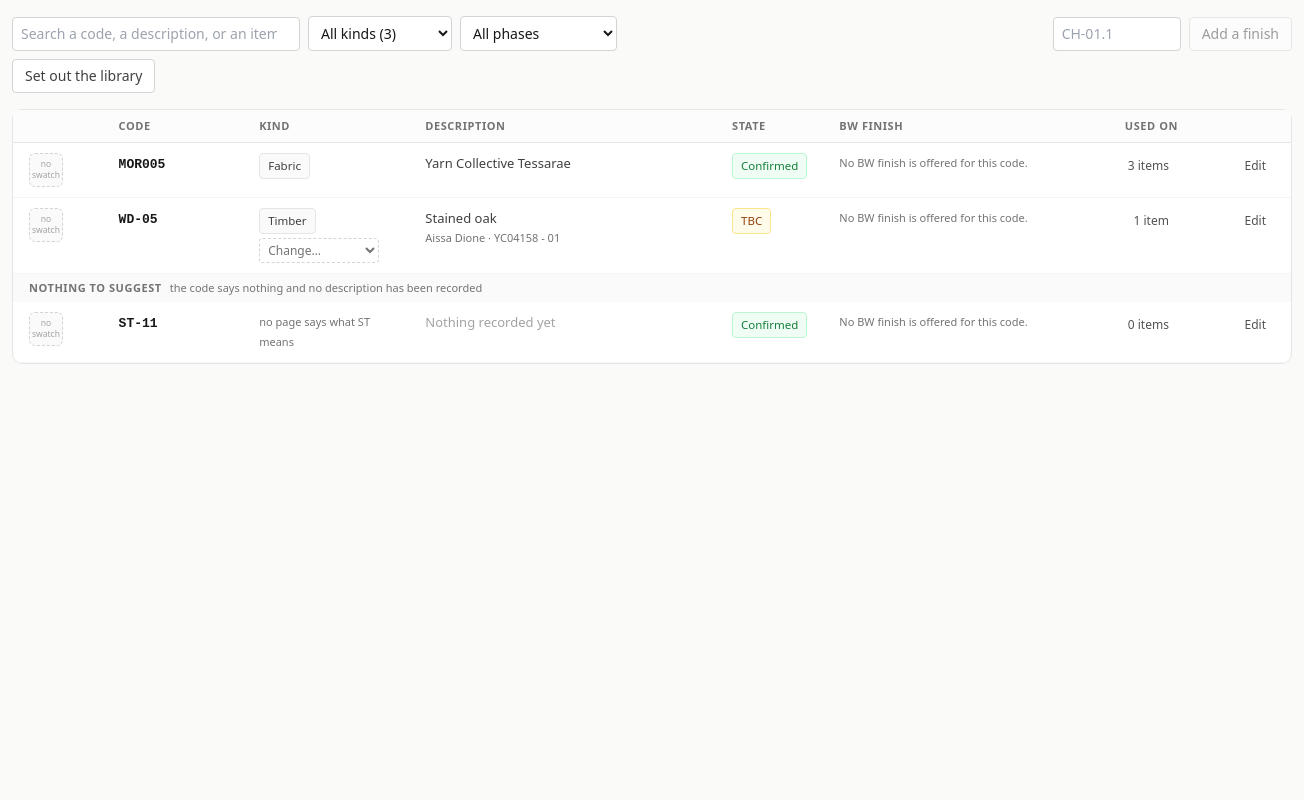
Test: the finishes library › says in words that an edit still reaches the other phases
Expected: the text "MOR005" is shown, top-left (119, 157), bottom-right (165, 172)
Select "MAIN RUN - VE (1)" in the dropdown named "Filter by phase": (538, 34) top-left (460, 16), bottom-right (617, 51)
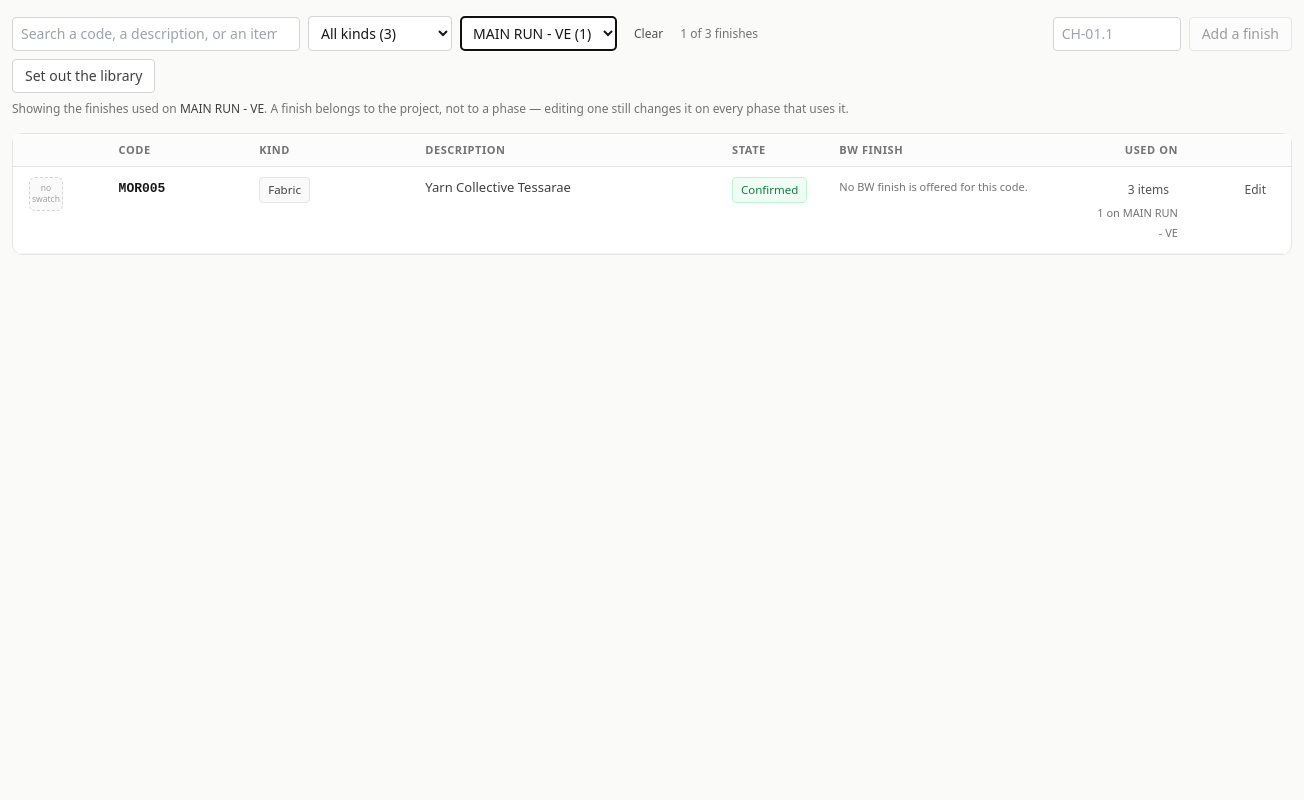
Now the text "editing one still changes it on every phase that uses it" is shown, box top-left (264, 100), bottom-right (849, 117)
Click the button "Edit": click(1255, 190) top-left (1236, 177), bottom-right (1275, 203)
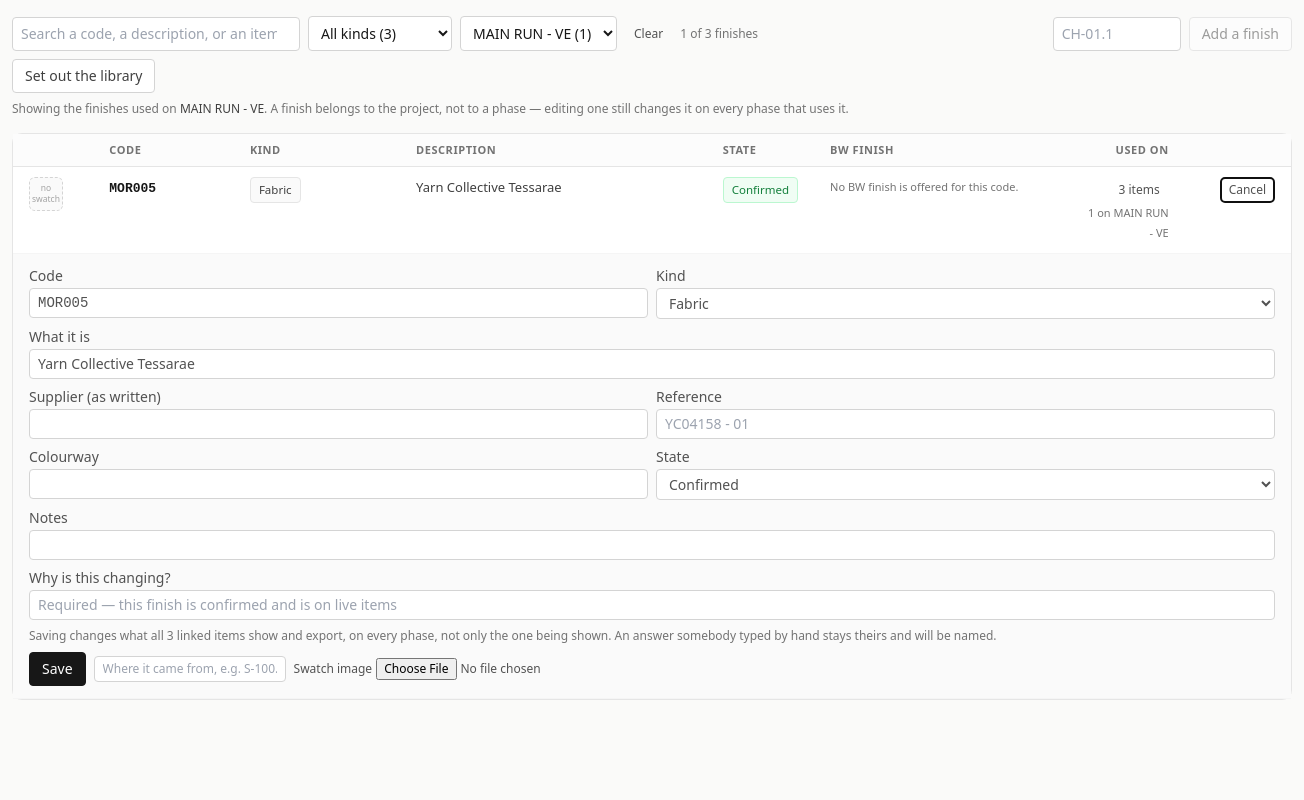
Now the text "all 3 linked items" is shown, box top-left (29, 627), bottom-right (996, 644)
Now the text "on every phase, not only the one being shown" is shown, box top-left (343, 627), bottom-right (608, 644)
